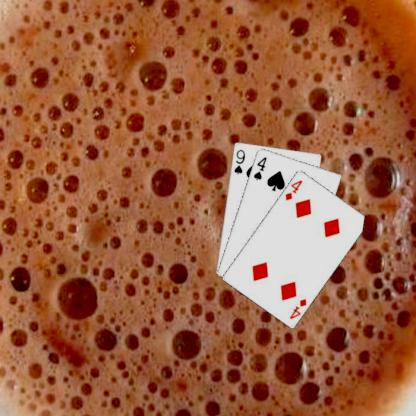4D: (282, 177, 304, 202), (287, 296, 308, 320)
4S: (251, 154, 267, 181)
9S: (231, 147, 246, 175)
